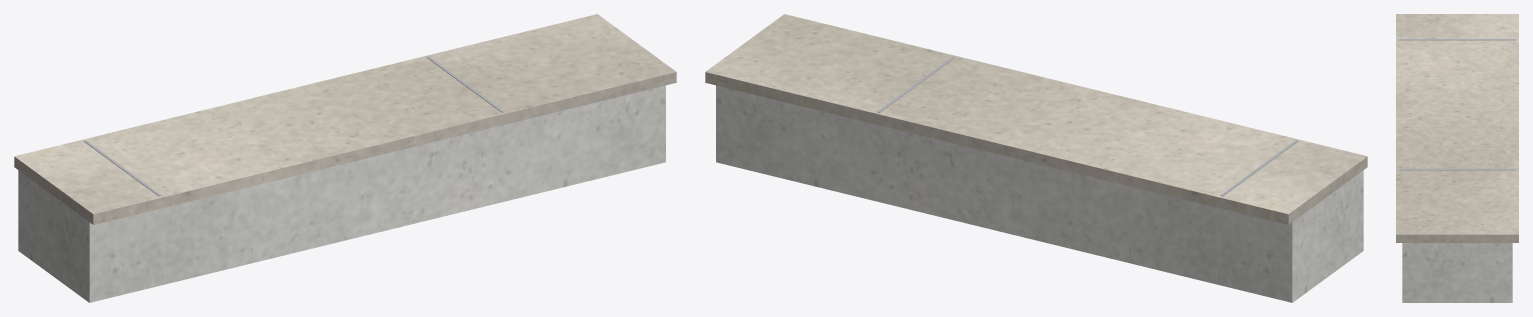
File: floor_terrazzo_u_e30_0_0_0.glb
3 views of the same model, side by side, from view 1: azimuth 30°, elevation 25°; view 2: azimuth 150°, elevation 25°; view 3: azimuth 270°, elevation 25° (orthographic). The views are drawn at different scales.
Parts seen in each view (by area): view 1: floor_terrazzo_u_e30_0_0_0_terrazzo, floor_terrazzo_u_e30_0_0_0_plaster, floor_terrazzo_u_e30_0_0_0_steel; view 2: floor_terrazzo_u_e30_0_0_0_terrazzo, floor_terrazzo_u_e30_0_0_0_plaster, floor_terrazzo_u_e30_0_0_0_steel; view 3: floor_terrazzo_u_e30_0_0_0_terrazzo, floor_terrazzo_u_e30_0_0_0_plaster, floor_terrazzo_u_e30_0_0_0_steel.
Part boxes in pixels (x1,y1,x2,y2): floor_terrazzo_u_e30_0_0_0_terrazzo: (14, 14, 676, 224); floor_terrazzo_u_e30_0_0_0_plaster: (18, 85, 665, 302); floor_terrazzo_u_e30_0_0_0_steel: (83, 56, 504, 196); floor_terrazzo_u_e30_0_0_0_terrazzo: (705, 14, 1367, 224); floor_terrazzo_u_e30_0_0_0_plaster: (716, 85, 1363, 302); floor_terrazzo_u_e30_0_0_0_steel: (877, 56, 1298, 196); floor_terrazzo_u_e30_0_0_0_terrazzo: (1396, 14, 1518, 242); floor_terrazzo_u_e30_0_0_0_plaster: (1402, 243, 1512, 302); floor_terrazzo_u_e30_0_0_0_steel: (1399, 39, 1515, 170).
Bounding box in the file's own units: 1.7 × 0.2565 × 0.4.
Materials: 3 (2 with a texture image).
